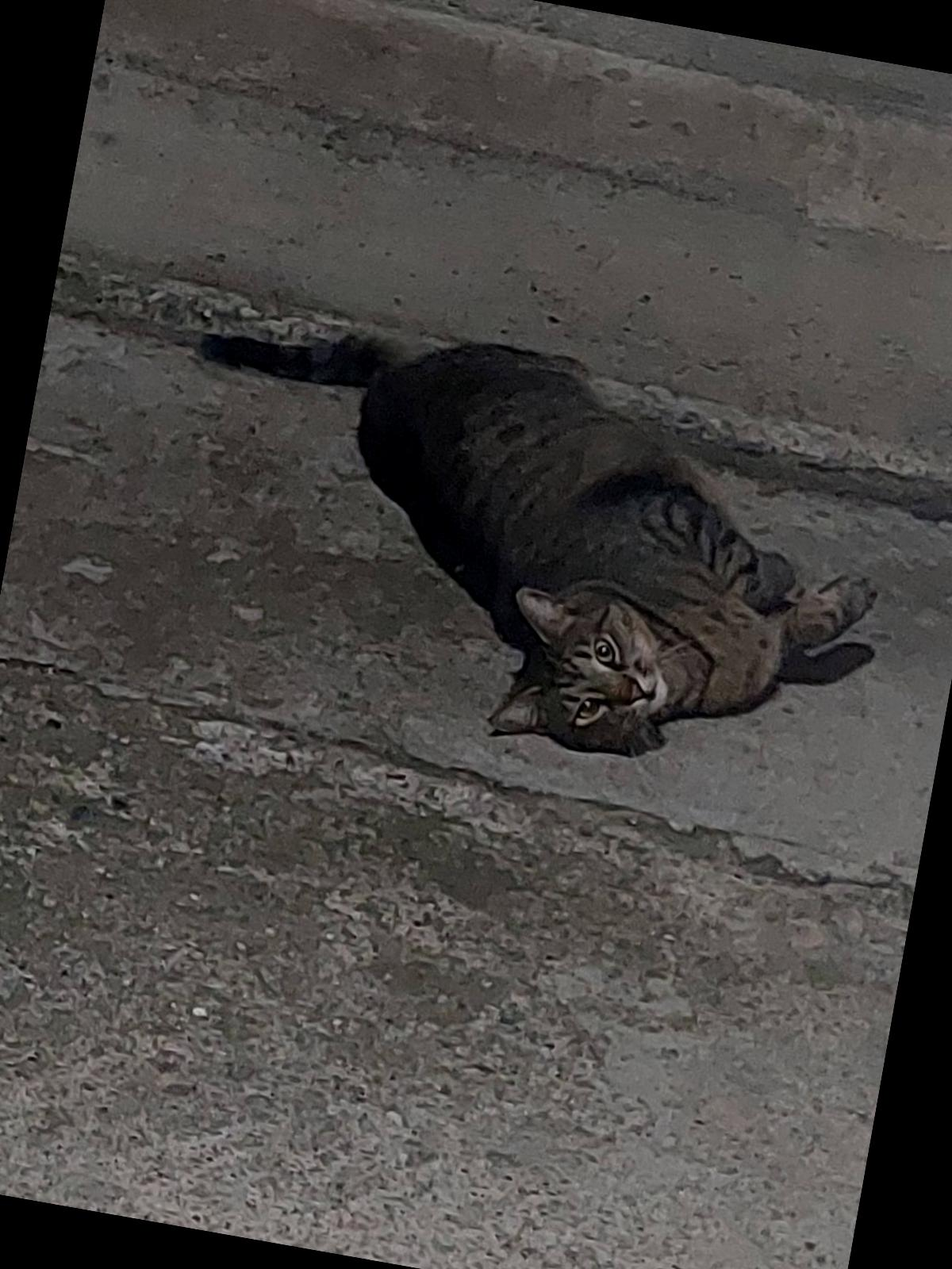macka: (140, 293, 906, 796)
